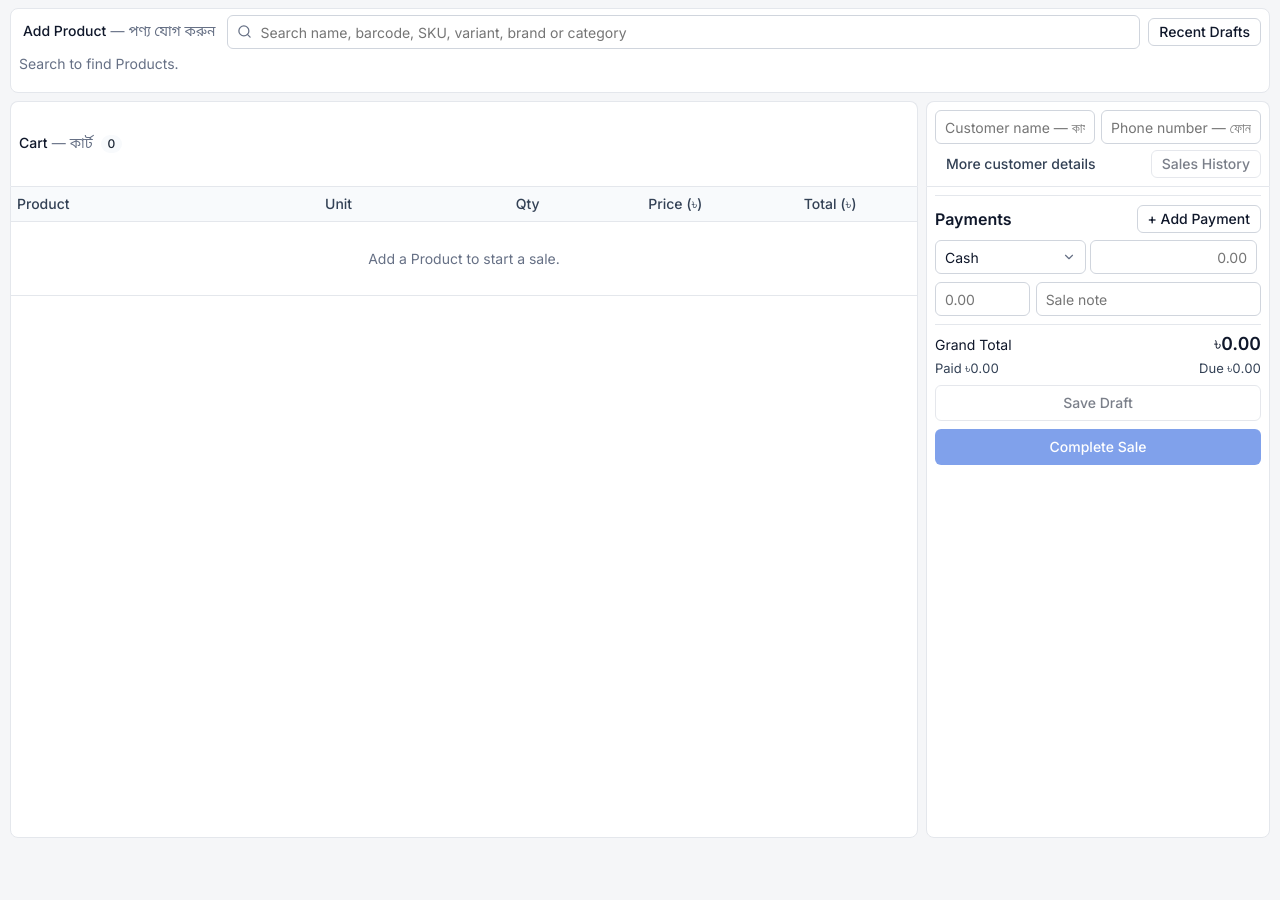
Test: Mature POS Customer panel › uses structured Name and Phone searches and shows the selected Customer live balance
Type "Rahim" into the field labelled "Customer name" at (1015, 127), box [935, 110, 1095, 144]
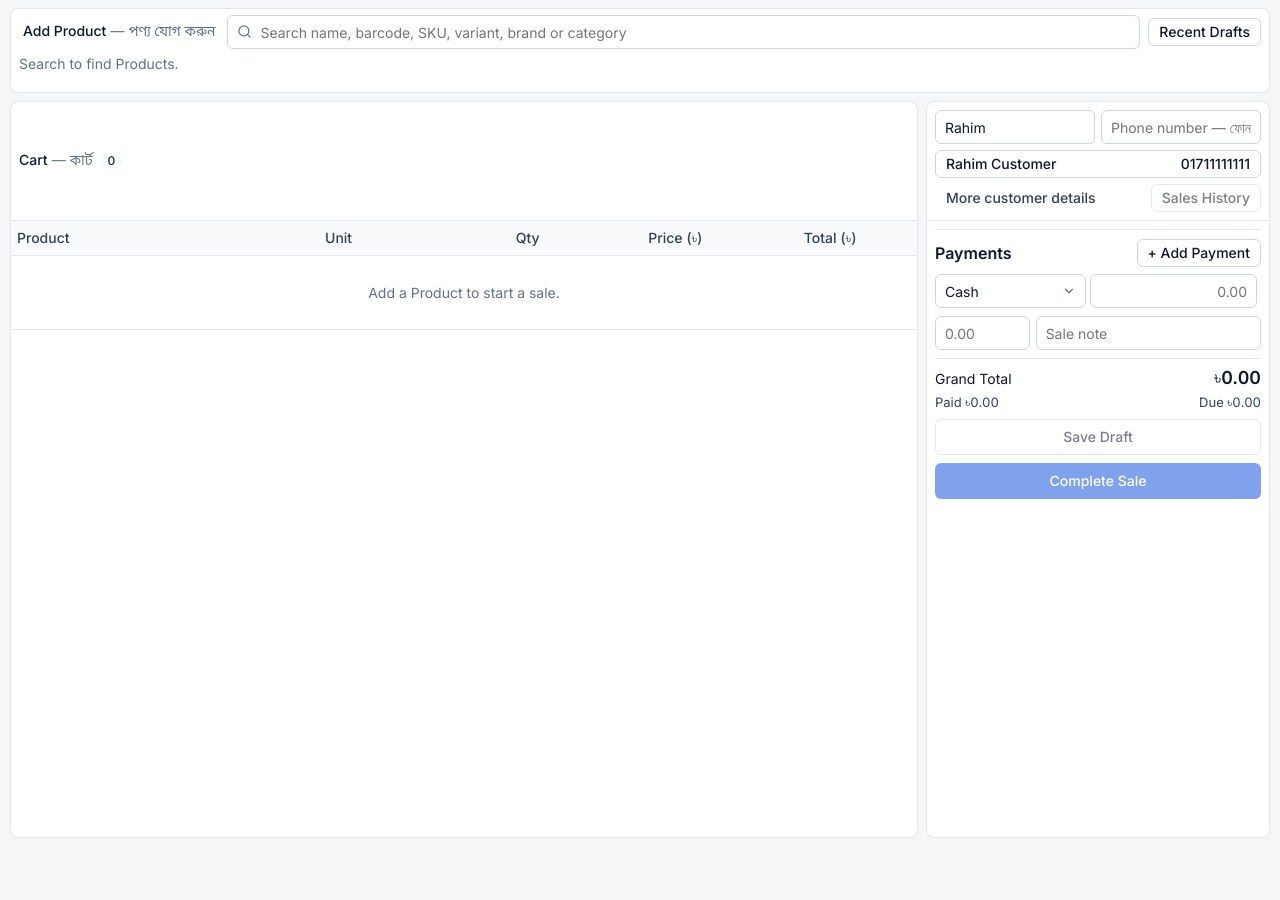
Click the button with aria-label "Select Rahim Customer" at (1001, 164), box [935, 150, 1261, 178]
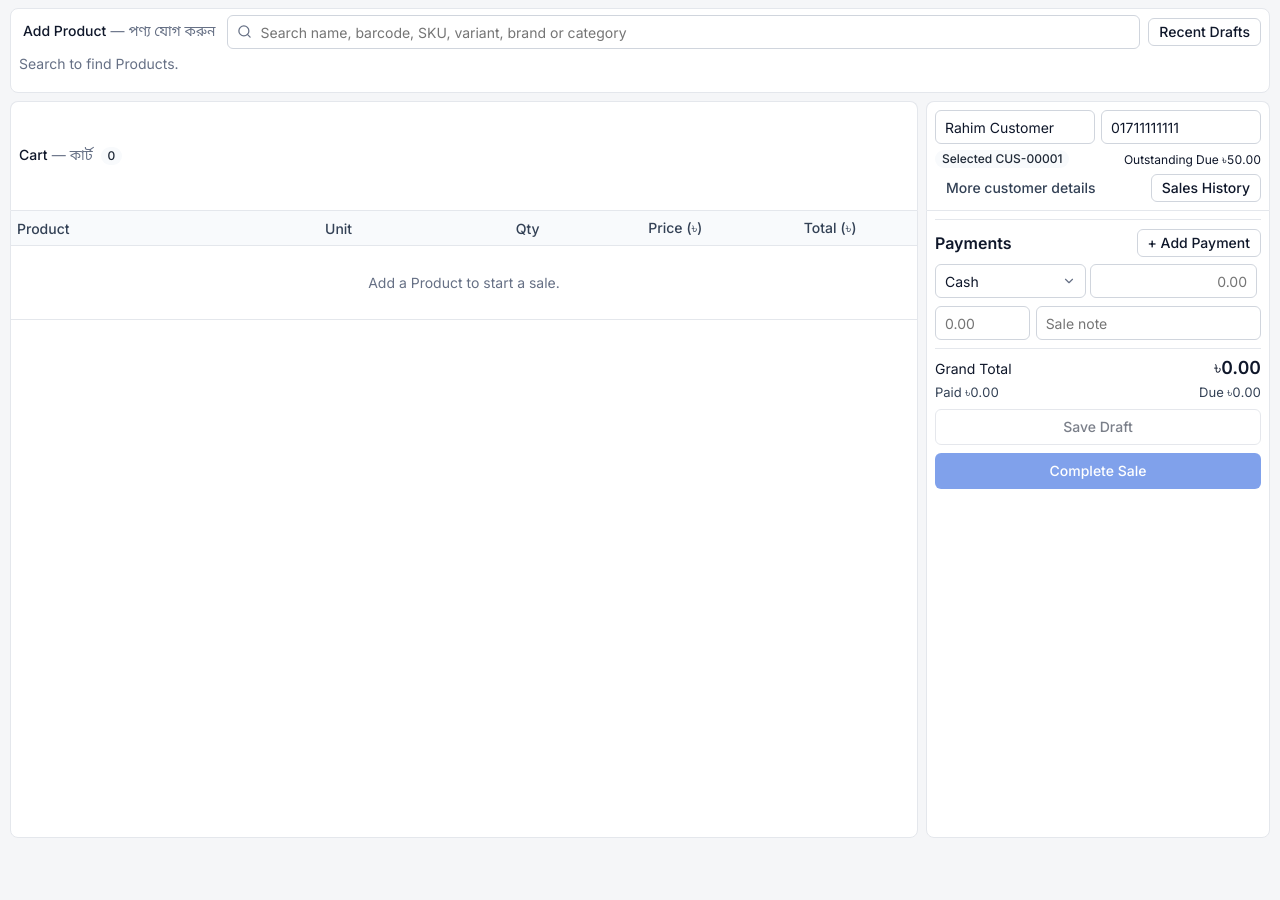
Expected: the field named "Customer name" holds "Rahim Customer"
Expected: the field named "Customer Phone" holds "01711111111", [1101, 110, 1261, 144]
Expected: the text "Selected CUS-00001" is shown, [935, 150, 1069, 168]
Replace the text in the field named "Customer name" with "Salma" at (1015, 127), box [935, 110, 1095, 144]
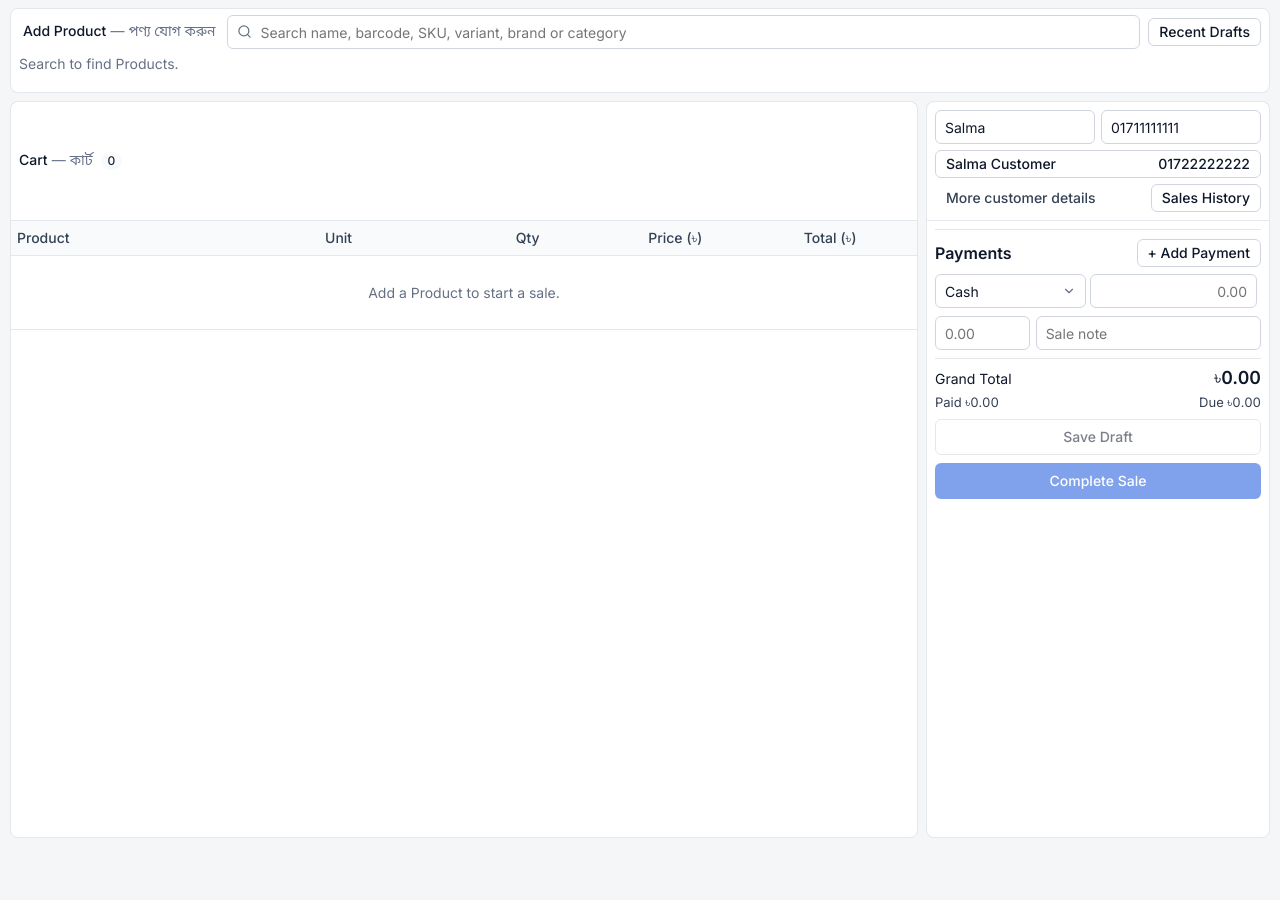
Click the button with aria-label "Select Salma Customer" at (1001, 164), box [935, 150, 1261, 178]
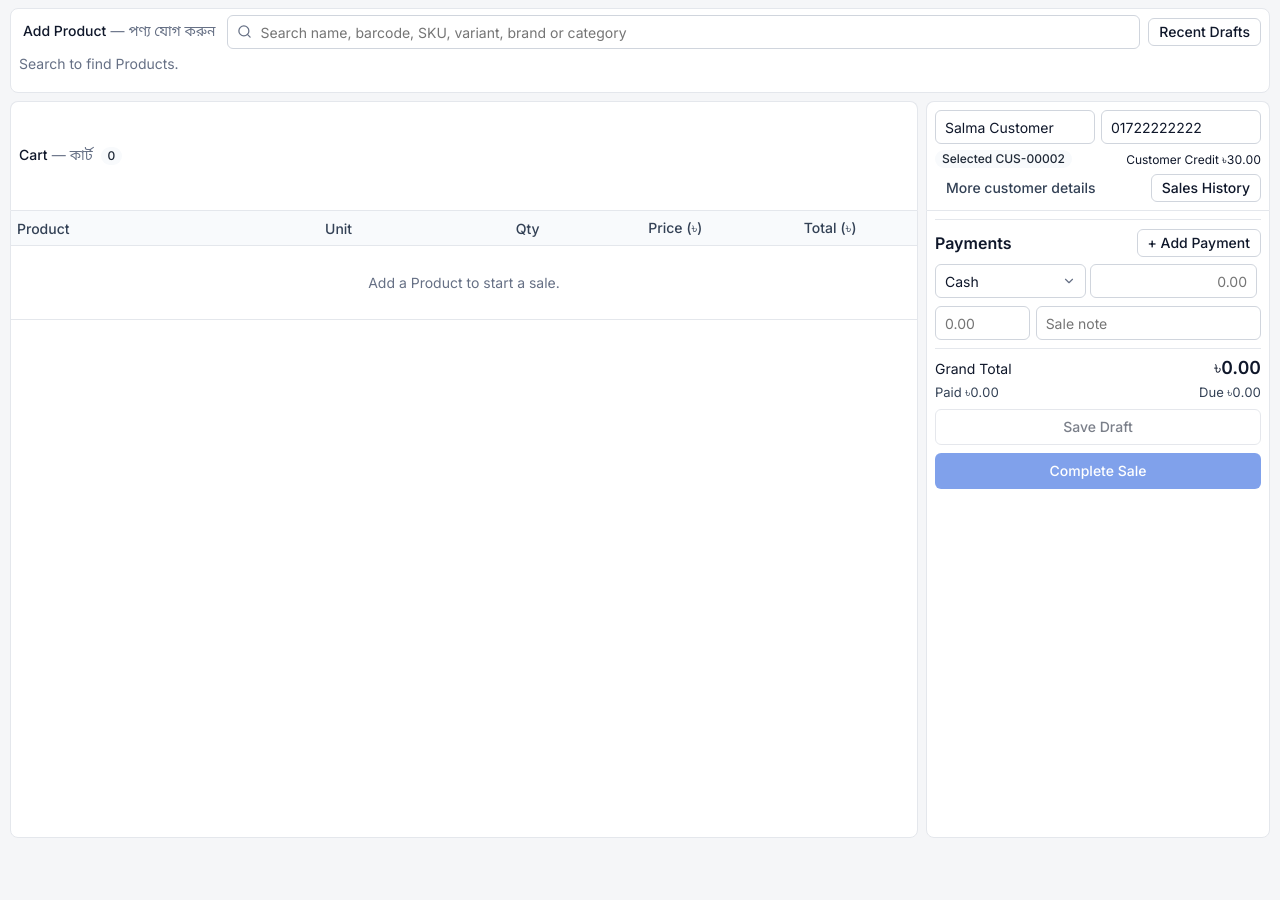
Expected: the text "Customer Credit ৳30.00" is shown, [1126, 152, 1261, 167]
Replace the text in the field named "Customer Phone" with "017111" at (1181, 127), box [1101, 110, 1261, 144]
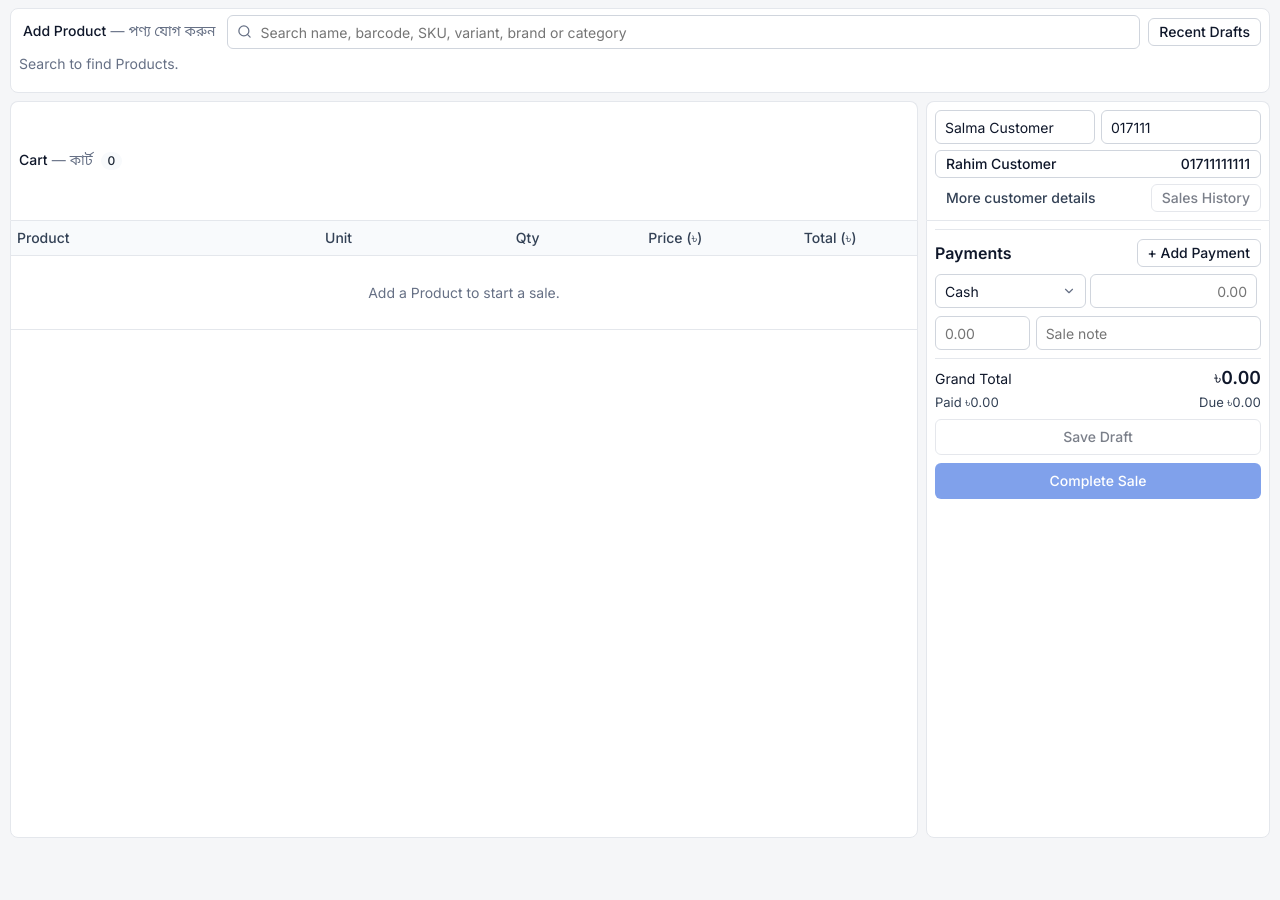
Expected: the button with aria-label "Select Rahim Customer" is shown, [935, 150, 1261, 178]
